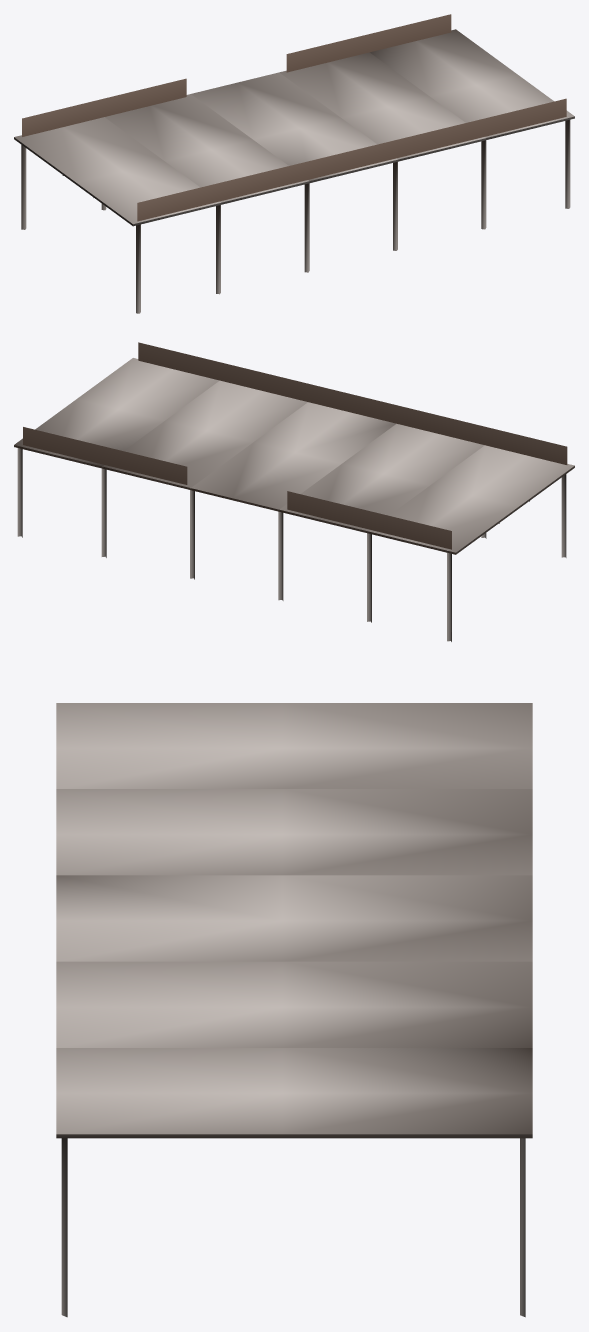
Rendered from WoodFlooring_V1.fbx.
The picture shows the model from 3 angles, top to bottom: view 1: azimuth 30°, elevation 25°; view 2: azimuth 150°, elevation 25°; view 3: azimuth 270°, elevation 25°; orthographic projection. The views are drawn at different scales.
Visible parts, largest first — view 1: WoodFlooring_V1; view 2: WoodFlooring_V1; view 3: WoodFlooring_V1.
Boxes of the visible parts, x1,y1,x2,y2 form: WoodFlooring_V1: (14,14,574,313); WoodFlooring_V1: (14,342,574,641); WoodFlooring_V1: (56,703,532,1317).
Bounding box in the file's own units: 2740 × 659 × 1279.
